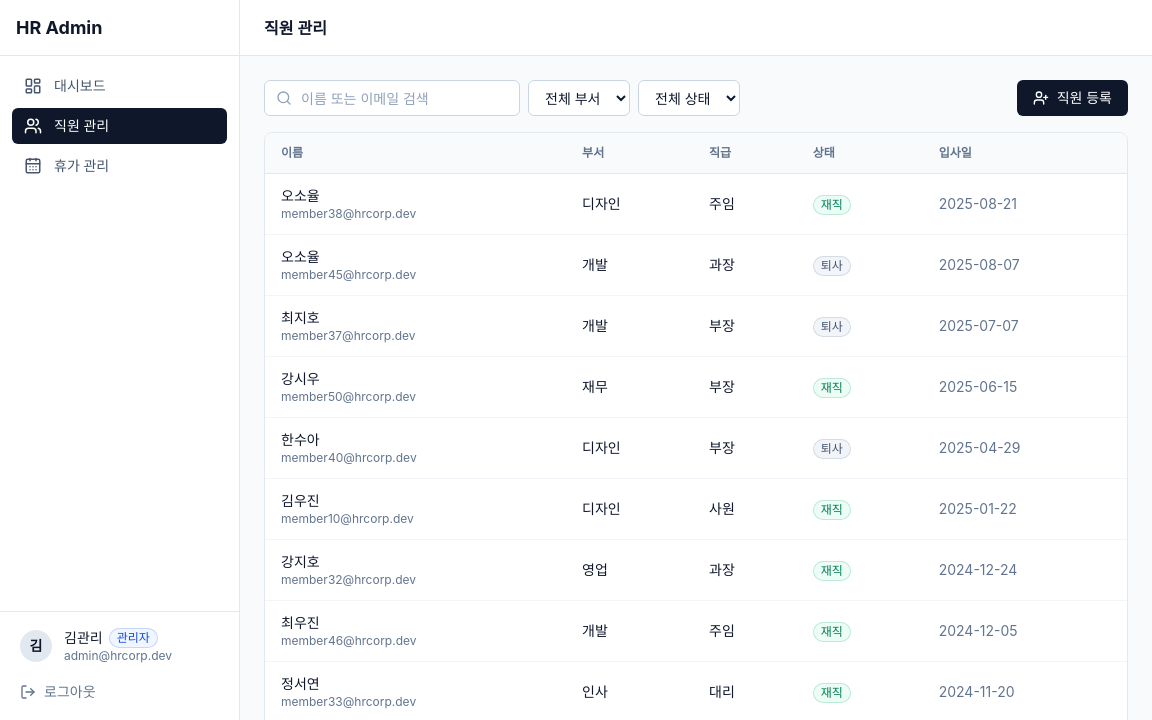
Test: EmployeeListPage › 필터를 바꾸면 page가 1로 리셋된다
The width and height of the screenshot is (1152, 720).
Select "퇴사" in the 2nd dropdown. click: (689, 98)
box: [638,80,740,116]
(page scrolled)
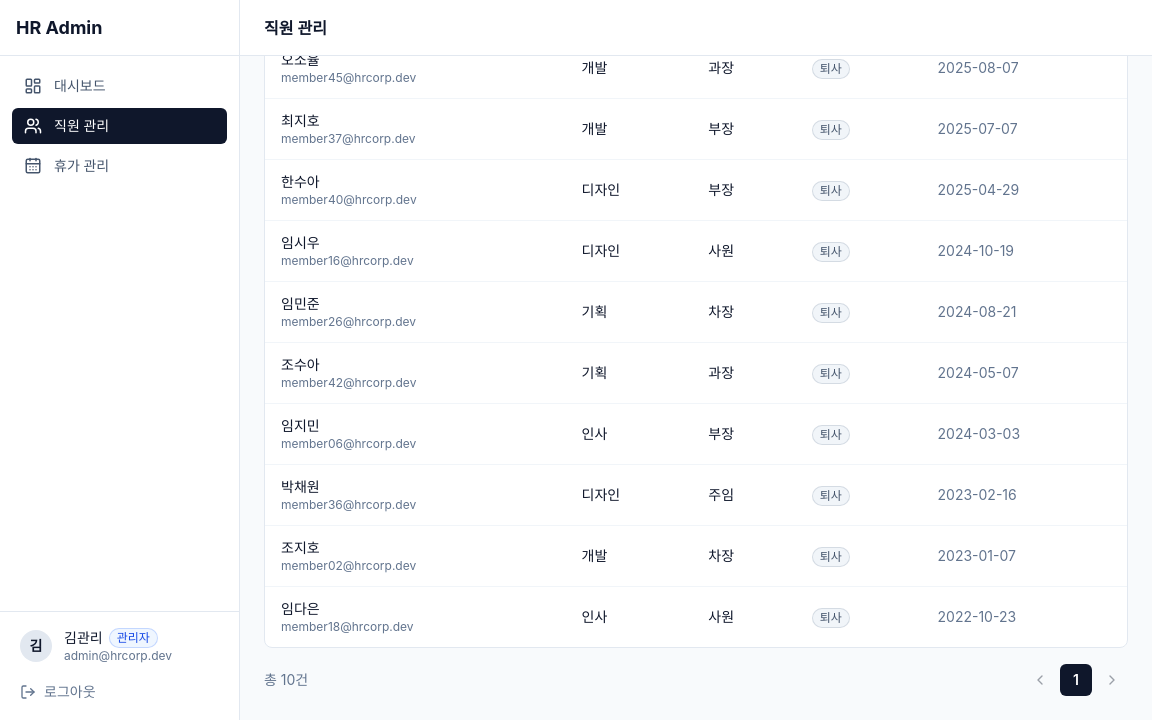
Result: the text "총 10건" is shown at [264,670,308,690]
